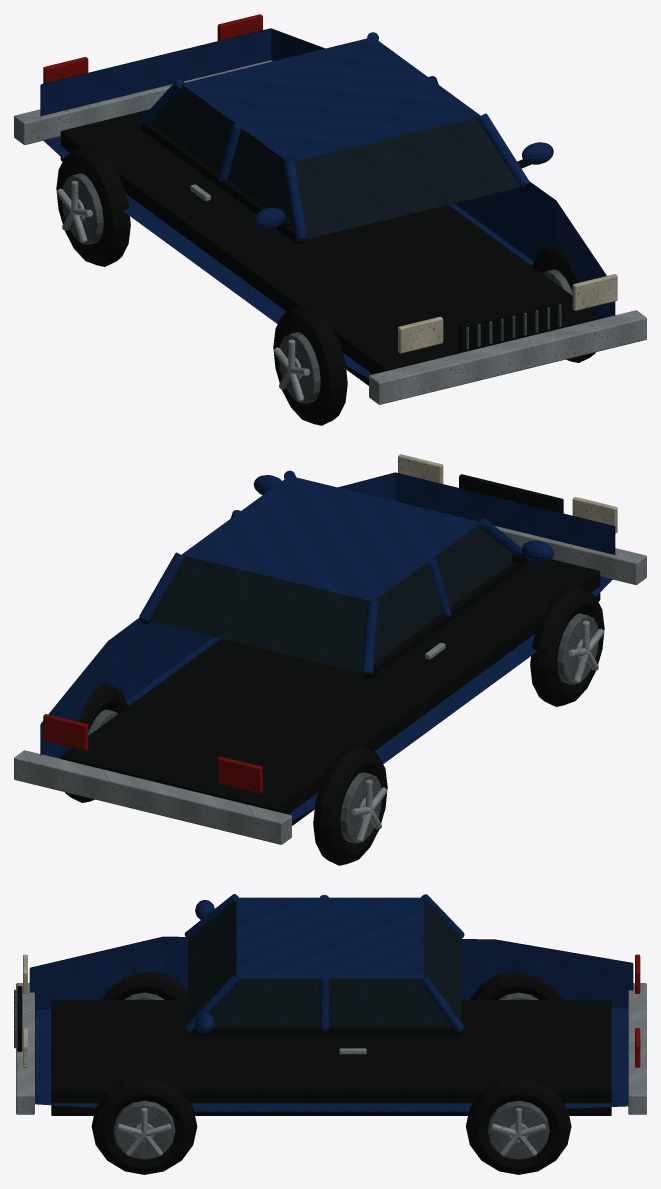
The model's file is PROP-CB7672FE1584_lod0.glb.
3 views of the same model, one above another, from view 1: azimuth 30°, elevation 25°; view 2: azimuth 150°, elevation 25°; view 3: azimuth 270°, elevation 25° (orthographic). The views are drawn at different scales.
Visible parts, largest first — view 1: chassis.021, sloped_cabin_glazing.021, roof_panel.019, shaped_body_panels.021, bumper.021, tire.021, rim.021, window_pillars.021, radiator_grille.021, lamp_lenses.042, window_belt.021, rim_spokes.021 (+3 smaller); view 2: chassis.021, sloped_cabin_glazing.021, roof_panel.019, shaped_body_panels.021, bumper.021, tire.021, rim.021, window_pillars.021, lamp_lenses.043, window_belt.021, lamp_lenses.042, rim_spokes.021 (+2 smaller); view 3: chassis.021, shaped_body_panels.021, sloped_cabin_glazing.021, roof_panel.019, tire.021, rim.021, bumper.021, window_pillars.021, window_belt.021, rim_spokes.021, mirror.021, lamp_lenses.043.
Boxes of the visible parts, x1,y1,x2,y2 form: chassis.021: (60,109,600,385); sloped_cabin_glazing.021: (150,84,519,238); roof_panel.019: (181,37,480,161); shaped_body_panels.021: (40,28,615,378); bumper.021: (14,60,646,404); tire.021: (56,147,595,425); rim.021: (62,173,572,403); window_pillars.021: (139,32,529,240); radiator_grille.021: (459,299,563,351); lamp_lenses.042: (398,274,617,353); window_belt.021: (140,123,528,244); rim_spokes.021: (56,180,309,401); chassis.021: (60,559,600,825); sloped_cabin_glazing.021: (149,523,512,672); roof_panel.019: (181,475,481,600); shaped_body_panels.021: (40,472,615,820); bumper.021: (14,526,646,844); tire.021: (65,587,604,865); rim.021: (88,613,598,843); window_pillars.021: (139,470,528,674); lamp_lenses.043: (43,714,262,793); window_belt.021: (140,560,528,678); lamp_lenses.042: (398,454,617,533); rim_spokes.021: (351,620,604,841); chassis.021: (51,1000,611,1115); shaped_body_panels.021: (29,936,633,1111); sloped_cabin_glazing.021: (188,899,460,1026); roof_panel.019: (236,897,423,978); tire.021: (91,972,571,1174); rim.021: (113,992,549,1159); bumper.021: (16,983,646,1114); window_pillars.021: (184,894,464,1033); window_belt.021: (188,1026,460,1035); rim_spokes.021: (117,1107,545,1156); mirror.021: (195,900,214,1033); lamp_lenses.043: (635,954,640,1067).
Size of the model in its own units: 2.09 by 1.42 by 4.41.
8 materials, 8 textured.
